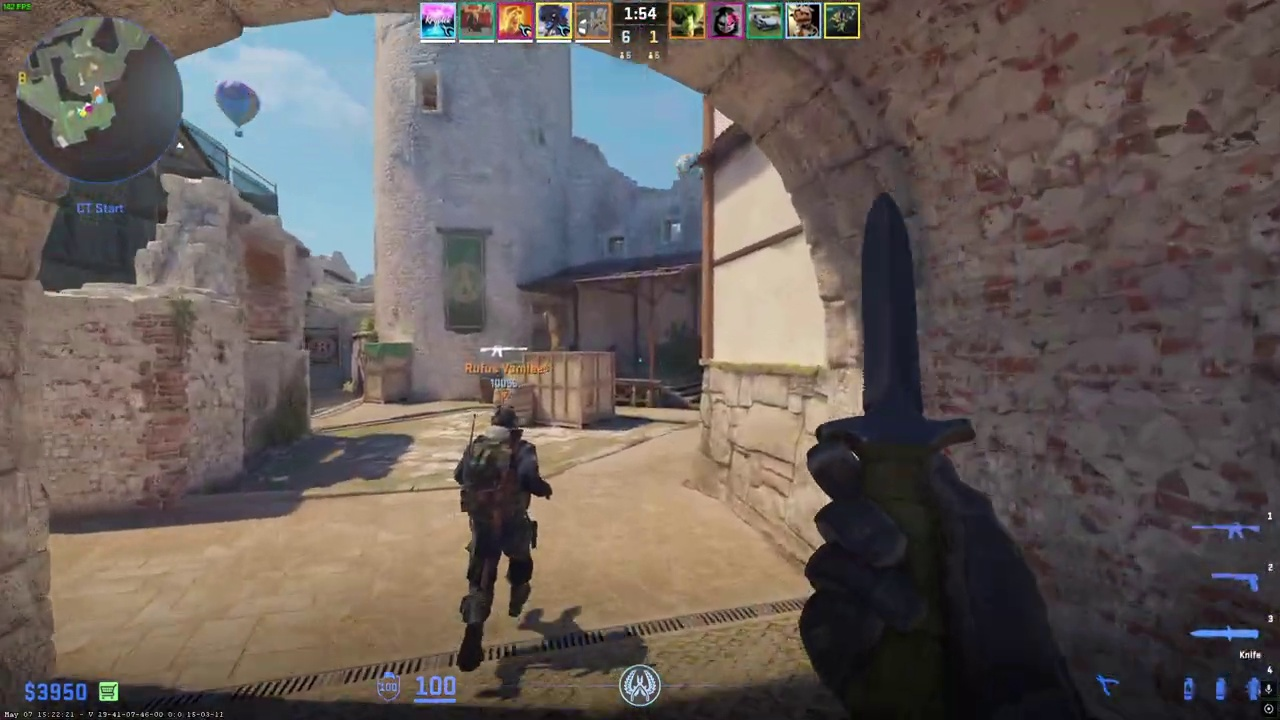CT: (449, 403, 551, 674)
